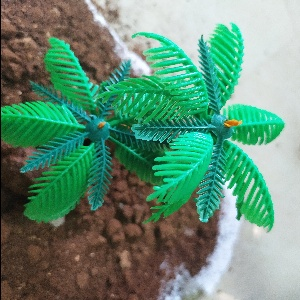plant: (114, 31, 286, 226), (3, 40, 119, 233)
